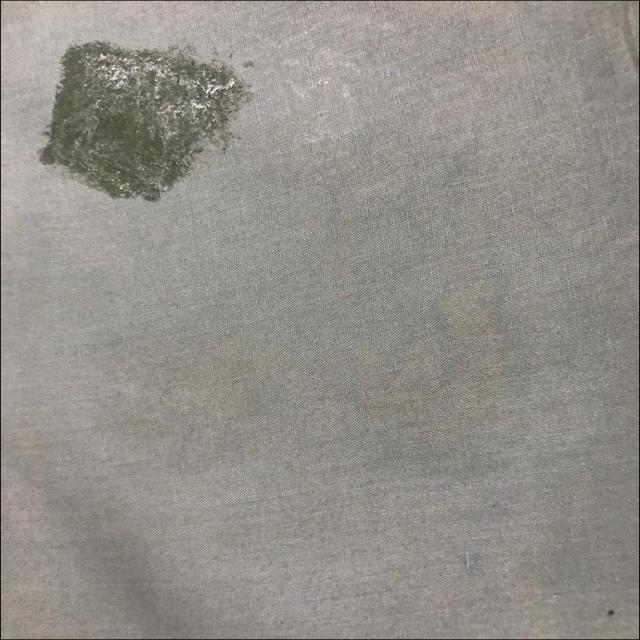Stain: (38, 41, 247, 201)
